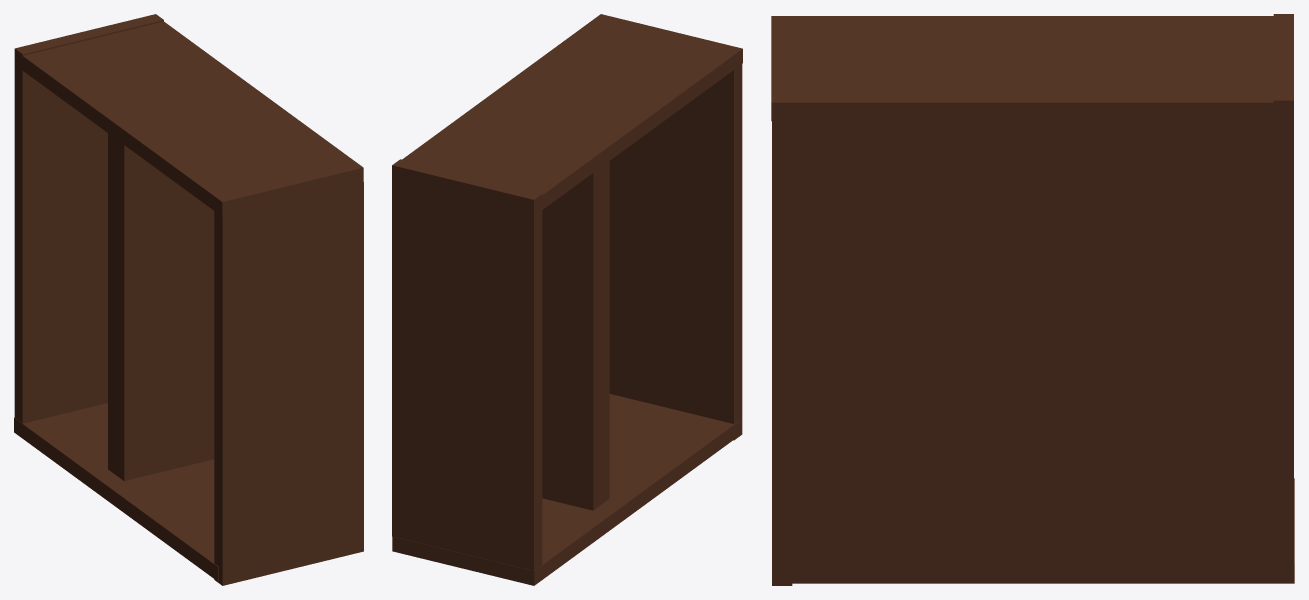
Rendered from shelf.fbx.
3 renders of one model, left to right at view 1: azimuth 30°, elevation 25°; view 2: azimuth 150°, elevation 25°; view 3: azimuth 270°, elevation 25°, orthographic. The views are drawn at different scales.
Parts seen in each view (by area): view 1: Cube; view 2: Cube; view 3: Cube.
Boxes of the visible parts, x1,y1,x2,y2 form: Cube: (14,14,363,585); Cube: (392,14,742,585); Cube: (771,14,1294,585).
Size of what is drawn, in the model's own units: 201 by 522 by 510.
